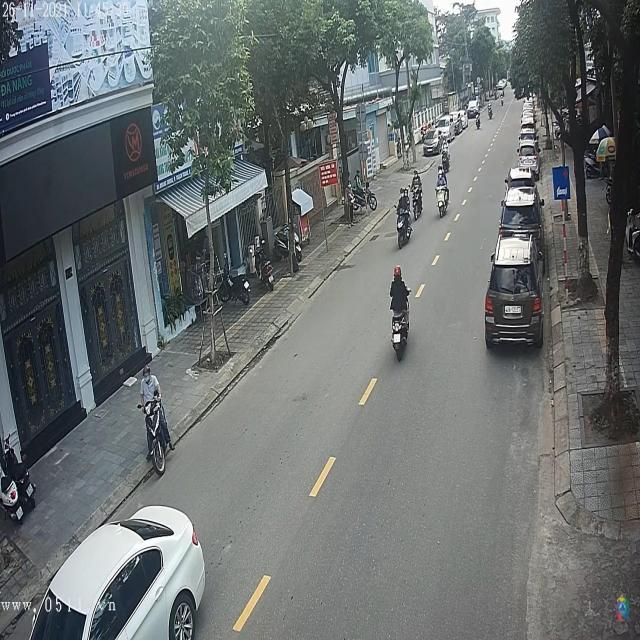car: (486, 237, 542, 350), (500, 185, 545, 239), (423, 126, 451, 156)
motorcycle: (137, 398, 173, 481), (386, 300, 409, 366), (395, 203, 411, 250), (435, 178, 451, 218), (411, 179, 423, 223)
